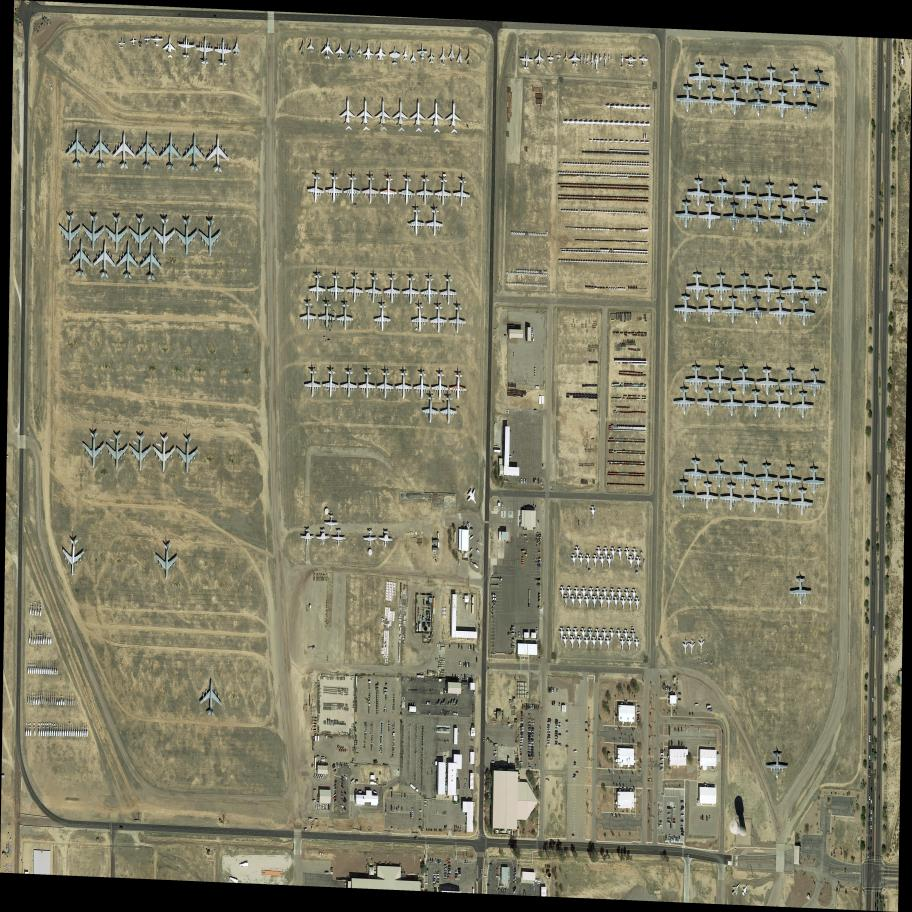large-vehicle: (528, 590, 530, 608), (491, 578, 502, 581), (867, 849, 870, 859), (521, 479, 523, 485), (678, 698, 682, 701), (535, 478, 537, 484), (538, 478, 540, 484), (615, 813, 617, 818), (533, 478, 535, 483), (525, 479, 527, 484), (540, 479, 542, 484), (509, 455, 512, 458), (506, 480, 509, 483), (504, 480, 507, 483), (524, 479, 525, 485)
plane: (128, 216, 153, 256), (61, 538, 86, 578), (152, 217, 177, 256), (82, 214, 106, 254), (58, 213, 82, 253), (199, 678, 223, 718), (175, 218, 198, 258), (116, 242, 140, 280), (105, 216, 129, 254), (140, 243, 163, 282), (89, 130, 112, 169), (106, 432, 129, 471), (153, 435, 176, 474), (66, 129, 89, 168), (159, 134, 183, 171), (130, 434, 152, 474), (177, 436, 199, 476), (199, 219, 222, 257), (183, 134, 206, 172), (155, 543, 178, 581), (83, 431, 105, 470), (70, 240, 92, 278), (94, 241, 116, 279), (207, 135, 229, 173), (113, 132, 135, 170), (793, 91, 819, 123), (711, 63, 737, 95), (137, 132, 158, 170), (742, 484, 767, 515), (758, 67, 783, 98), (735, 66, 760, 97), (721, 201, 745, 233), (769, 205, 793, 237), (698, 86, 723, 116), (766, 485, 790, 516), (745, 203, 769, 234), (733, 272, 757, 303), (683, 458, 707, 489), (743, 389, 767, 420), (806, 70, 830, 101), (757, 183, 782, 212), (778, 465, 802, 495), (710, 179, 734, 209), (746, 89, 770, 119), (780, 275, 804, 305), (684, 365, 708, 395), (673, 294, 697, 324), (697, 295, 721, 325), (792, 298, 816, 328), (719, 482, 742, 513), (723, 86, 746, 117), (452, 174, 472, 209), (397, 172, 417, 207), (792, 208, 816, 237), (675, 85, 699, 114), (770, 91, 794, 120), (765, 751, 788, 781), (672, 480, 695, 510), (674, 200, 697, 230), (698, 200, 721, 230), (781, 184, 804, 214), (757, 275, 780, 305), (672, 387, 695, 417), (708, 366, 731, 396), (768, 297, 791, 327), (321, 365, 341, 399), (686, 179, 710, 207), (802, 467, 825, 496), (731, 462, 754, 491), (755, 464, 778, 493), (734, 181, 757, 210), (756, 368, 779, 397), (696, 388, 719, 417), (720, 389, 743, 418), (767, 390, 790, 419), (791, 391, 814, 420), (732, 367, 755, 396), (805, 276, 828, 305), (721, 296, 744, 325), (688, 63, 711, 92), (789, 576, 811, 606), (696, 481, 718, 511), (745, 296, 767, 326), (306, 172, 326, 205), (365, 271, 384, 305), (449, 368, 468, 402), (708, 461, 731, 489), (685, 273, 708, 301), (803, 370, 826, 398), (779, 369, 802, 397), (791, 488, 813, 517), (422, 390, 440, 425), (461, 484, 485, 510), (710, 274, 732, 302), (783, 69, 805, 97), (336, 298, 354, 332), (411, 300, 429, 334), (449, 301, 467, 335), (346, 270, 364, 304), (440, 391, 458, 425), (308, 269, 326, 303), (434, 173, 452, 207), (395, 366, 412, 401), (806, 187, 828, 214), (358, 366, 376, 399), (340, 366, 358, 399), (299, 297, 317, 330), (430, 301, 448, 334), (426, 204, 444, 237), (325, 171, 343, 204), (343, 172, 361, 205), (374, 299, 391, 333), (421, 272, 438, 306), (377, 366, 394, 400), (413, 367, 430, 401), (408, 203, 425, 237), (392, 98, 409, 132), (417, 172, 434, 206), (380, 172, 397, 206), (304, 365, 322, 397), (440, 273, 457, 306), (327, 270, 344, 303), (339, 97, 356, 130), (431, 370, 449, 401), (318, 299, 335, 331), (428, 100, 444, 134), (410, 99, 426, 133), (445, 100, 461, 134), (362, 172, 379, 204), (375, 98, 391, 131), (357, 98, 373, 131), (215, 37, 233, 66), (196, 36, 214, 65), (402, 276, 420, 305), (384, 272, 400, 304), (362, 528, 379, 557), (178, 35, 196, 58), (727, 878, 746, 899), (324, 508, 339, 533), (300, 528, 315, 546), (379, 530, 393, 549), (332, 528, 346, 547), (316, 528, 330, 547), (321, 39, 333, 61), (164, 35, 175, 58), (389, 47, 400, 65), (739, 882, 751, 898), (363, 43, 373, 61), (376, 43, 385, 61), (418, 44, 427, 60), (336, 44, 345, 60), (233, 37, 240, 57), (409, 49, 417, 66), (456, 47, 463, 66), (465, 48, 472, 67), (347, 44, 355, 60), (152, 35, 163, 46), (682, 638, 689, 655), (698, 636, 705, 653), (439, 47, 446, 64), (448, 46, 455, 62), (617, 547, 624, 562), (624, 547, 631, 562), (428, 49, 435, 64), (580, 627, 587, 642), (620, 596, 627, 611), (307, 39, 314, 54), (633, 637, 640, 652), (689, 638, 695, 655), (574, 546, 581, 560), (606, 555, 613, 569), (566, 586, 573, 600), (609, 588, 616, 602), (635, 556, 642, 570), (584, 595, 591, 609), (601, 628, 608, 642), (623, 629, 630, 643), (591, 595, 598, 609), (299, 42, 306, 56), (626, 637, 633, 651), (619, 637, 626, 651), (596, 546, 602, 561), (590, 505, 596, 520), (624, 588, 630, 603), (631, 588, 637, 603), (609, 628, 615, 643), (613, 596, 619, 611), (610, 547, 616, 561), (603, 547, 609, 561), (599, 555, 605, 569), (617, 588, 623, 602), (559, 586, 565, 600), (574, 587, 580, 601), (581, 587, 587, 601), (588, 587, 594, 601), (595, 587, 601, 601), (592, 554, 598, 568), (628, 556, 634, 570), (632, 548, 638, 562), (571, 553, 577, 567), (578, 554, 584, 568), (585, 554, 591, 568), (570, 595, 576, 609), (577, 595, 583, 609), (403, 47, 409, 61), (616, 629, 622, 643), (559, 627, 565, 641), (566, 628, 572, 642), (588, 628, 594, 642), (630, 629, 636, 643), (634, 597, 640, 611), (606, 596, 612, 610), (562, 635, 568, 649), (576, 636, 582, 650), (584, 636, 590, 650), (598, 636, 604, 650), (591, 636, 597, 650), (602, 588, 608, 601), (563, 595, 569, 608), (573, 628, 579, 641), (569, 636, 575, 649), (627, 597, 633, 610), (605, 637, 611, 650), (563, 53, 570, 63), (595, 628, 600, 642), (599, 596, 604, 610), (119, 37, 125, 48), (357, 44, 362, 56), (138, 35, 142, 47), (130, 37, 136, 45), (145, 35, 150, 44)
small-vehicle: (331, 762, 337, 769), (342, 796, 348, 802), (339, 780, 345, 786), (868, 768, 871, 778), (476, 548, 481, 554), (342, 800, 348, 805), (344, 774, 349, 780), (340, 775, 346, 780), (340, 784, 345, 790), (632, 726, 637, 732), (617, 726, 622, 732), (554, 718, 560, 723), (469, 535, 475, 540), (333, 798, 338, 803), (469, 548, 474, 553), (512, 886, 517, 891), (340, 794, 345, 799), (340, 803, 345, 808), (389, 787, 394, 792), (333, 792, 338, 797), (333, 786, 338, 791), (350, 779, 355, 784), (340, 778, 345, 783), (441, 399, 446, 404), (513, 870, 518, 875), (512, 877, 517, 882), (512, 880, 517, 885), (343, 790, 347, 796), (336, 763, 340, 769), (347, 763, 351, 769), (345, 763, 349, 769), (620, 769, 624, 775), (611, 769, 615, 775), (612, 812, 616, 818), (680, 741, 683, 749), (504, 887, 508, 893), (870, 786, 873, 793), (480, 868, 483, 875), (501, 502, 504, 509), (492, 597, 497, 601), (333, 796, 338, 800), (313, 773, 317, 778), (315, 774, 319, 779), (512, 890, 517, 894), (340, 798, 345, 802), (343, 806, 347, 811), (340, 790, 344, 795), (343, 763, 347, 768), (338, 763, 342, 768), (333, 768, 337, 773), (424, 881, 429, 885), (631, 726, 635, 731), (619, 738, 623, 743), (554, 721, 559, 725), (513, 866, 517, 871), (513, 873, 517, 878), (319, 774, 322, 780), (340, 762, 343, 768), (677, 727, 680, 733), (678, 741, 680, 750), (671, 740, 673, 749), (687, 854, 690, 860), (707, 709, 713, 712), (503, 887, 506, 893), (869, 735, 871, 743), (317, 775, 321, 779), (312, 799, 316, 803), (333, 766, 337, 770), (447, 858, 451, 862), (672, 817, 676, 821), (520, 717, 524, 721), (584, 728, 588, 732), (565, 744, 569, 748), (546, 778, 550, 782), (510, 632, 515, 635), (321, 775, 324, 780), (519, 726, 524, 729), (314, 818, 319, 821), (618, 812, 621, 817), (632, 738, 635, 743), (631, 770, 634, 775), (608, 769, 611, 774), (620, 726, 623, 731), (614, 726, 617, 731), (680, 806, 685, 809), (546, 737, 551, 740), (546, 740, 551, 743), (530, 752, 535, 755), (501, 887, 504, 892), (871, 756, 873, 763), (871, 767, 873, 774), (870, 830, 872, 837), (391, 805, 393, 812), (452, 674, 454, 681), (709, 815, 711, 822), (871, 742, 873, 749), (872, 697, 874, 703), (873, 625, 875, 631), (23, 204, 25, 210), (869, 754, 871, 760), (868, 821, 870, 827), (870, 852, 872, 858), (870, 846, 872, 852), (870, 837, 872, 843), (869, 805, 871, 811), (536, 627, 538, 633), (518, 632, 520, 638), (510, 629, 514, 632), (492, 595, 496, 598), (328, 804, 330, 810), (313, 789, 317, 792), (455, 873, 459, 876), (444, 867, 448, 870), (454, 871, 458, 874), (457, 868, 461, 871), (458, 873, 462, 876), (467, 522, 469, 528), (463, 522, 465, 528), (458, 560, 460, 566), (443, 864, 447, 867), (531, 730, 535, 733), (531, 727, 535, 730), (520, 734, 524, 737), (520, 723, 524, 726), (531, 722, 535, 725), (528, 727, 531, 731), (527, 737, 531, 740), (531, 733, 535, 736), (486, 883, 490, 886), (322, 804, 324, 810), (319, 804, 321, 810), (317, 805, 319, 811), (308, 818, 312, 821), (489, 863, 493, 866), (520, 737, 524, 740), (448, 862, 452, 865), (404, 792, 406, 798), (385, 809, 387, 815), (391, 792, 393, 798), (398, 806, 400, 812), (410, 812, 412, 818), (419, 809, 423, 812), (419, 818, 422, 822), (430, 858, 432, 864), (440, 859, 442, 865), (432, 878, 436, 881), (433, 887, 437, 890), (436, 881, 440, 884), (418, 826, 422, 829), (476, 657, 478, 663), (456, 406, 460, 409), (449, 644, 451, 650), (458, 644, 460, 650), (461, 644, 463, 650), (468, 645, 470, 651), (473, 645, 475, 651), (465, 661, 467, 667), (681, 727, 683, 733), (686, 728, 688, 734), (660, 750, 664, 753), (721, 730, 724, 734), (678, 692, 682, 695), (669, 686, 671, 692), (667, 686, 669, 692), (665, 686, 667, 692), (624, 700, 626, 706), (669, 835, 671, 841), (674, 836, 676, 842), (695, 703, 699, 706), (702, 814, 704, 820), (706, 815, 708, 821), (681, 832, 684, 836), (660, 768, 664, 771), (659, 821, 663, 824), (667, 806, 671, 809), (680, 825, 684, 828), (680, 827, 684, 830), (547, 721, 551, 724), (547, 724, 551, 727), (547, 734, 551, 737), (551, 687, 553, 693), (547, 743, 551, 746), (554, 740, 558, 743), (555, 735, 559, 738), (520, 721, 524, 724), (527, 751, 531, 754), (527, 754, 531, 757), (528, 766, 532, 769), (527, 704, 529, 710), (537, 705, 539, 711), (556, 724, 559, 728), (573, 750, 577, 753), (575, 771, 579, 774), (571, 834, 575, 837), (468, 522, 470, 528), (565, 731, 569, 734), (558, 744, 562, 747), (496, 875, 500, 878), (565, 719, 569, 722), (880, 674, 882, 679), (871, 636, 873, 641), (870, 825, 872, 830), (878, 795, 880, 800), (877, 775, 879, 780), (521, 633, 523, 638), (324, 804, 326, 809), (460, 825, 462, 830), (454, 825, 456, 830), (447, 871, 452, 873), (315, 805, 317, 810), (877, 899, 879, 904), (401, 793, 403, 798), (396, 807, 398, 812), (401, 806, 403, 811), (412, 807, 414, 812), (412, 813, 414, 818), (435, 859, 437, 864), (438, 859, 440, 864), (468, 662, 470, 667), (464, 675, 466, 680), (463, 662, 465, 667), (459, 661, 461, 666), (670, 686, 672, 691), (621, 702, 623, 707), (665, 835, 667, 840), (670, 836, 672, 841), (672, 836, 674, 841), (677, 837, 679, 842), (698, 728, 700, 733), (700, 815, 702, 820), (556, 688, 558, 693), (553, 687, 555, 692), (548, 687, 550, 692), (534, 705, 536, 710), (872, 546, 874, 551), (884, 67, 886, 72), (886, 84, 888, 89), (519, 517, 521, 522), (477, 541, 480, 544), (511, 626, 514, 629), (448, 867, 451, 870), (444, 870, 447, 873), (448, 873, 451, 876), (458, 870, 461, 873), (455, 876, 458, 879), (528, 722, 531, 725), (531, 735, 534, 738), (528, 724, 531, 727), (531, 741, 534, 744), (520, 745, 523, 748), (304, 828, 307, 831), (520, 740, 523, 743), (433, 873, 436, 876), (425, 875, 428, 878), (436, 873, 439, 876), (528, 740, 531, 743), (528, 743, 531, 746), (531, 744, 534, 747), (637, 719, 640, 722), (528, 746, 531, 749), (659, 824, 662, 827), (661, 755, 664, 758), (673, 807, 676, 810), (660, 758, 663, 761), (681, 830, 684, 833), (673, 820, 676, 823), (681, 801, 684, 804), (681, 814, 684, 817), (548, 718, 551, 721), (547, 729, 550, 732), (548, 731, 551, 734), (555, 732, 558, 735), (555, 727, 558, 730), (531, 749, 534, 752), (520, 761, 523, 764), (573, 760, 576, 763), (572, 776, 575, 779), (470, 527, 473, 530), (585, 721, 588, 724), (558, 725, 561, 728), (520, 729, 524, 731), (527, 735, 531, 737), (519, 743, 523, 745), (494, 744, 498, 746), (425, 869, 429, 871), (458, 674, 459, 682), (611, 812, 613, 816), (674, 728, 676, 732), (637, 706, 641, 708), (660, 753, 664, 755), (668, 812, 670, 816), (680, 809, 684, 811), (555, 730, 559, 732), (530, 755, 534, 757), (524, 705, 526, 709), (529, 705, 531, 709), (532, 705, 534, 709), (558, 723, 562, 725), (871, 797, 872, 804), (471, 674, 472, 681), (875, 893, 876, 899), (869, 814, 870, 820), (873, 851, 874, 857), (871, 809, 872, 815), (873, 806, 874, 812), (869, 795, 870, 801), (496, 868, 499, 870), (326, 804, 327, 810), (444, 873, 447, 875), (444, 876, 447, 878), (447, 876, 450, 878), (519, 754, 522, 756), (520, 732, 523, 734), (528, 730, 531, 732), (528, 733, 531, 735), (531, 738, 534, 740), (491, 763, 494, 765), (493, 754, 496, 756), (494, 751, 497, 753), (448, 865, 451, 867), (394, 806, 395, 812), (432, 858, 433, 864), (433, 876, 436, 878), (433, 882, 436, 884), (433, 884, 436, 886), (437, 879, 440, 881), (437, 876, 440, 878), (467, 674, 468, 680), (455, 674, 456, 680), (461, 674, 462, 680), (637, 712, 640, 714), (637, 715, 640, 717), (637, 717, 640, 719), (679, 836, 680, 842), (670, 822, 671, 828), (875, 902, 876, 908), (660, 764, 663, 766), (667, 818, 670, 820), (667, 821, 670, 823), (681, 820, 684, 822), (547, 727, 550, 729), (555, 744, 558, 746), (555, 738, 558, 740), (550, 687, 551, 693), (528, 749, 531, 751), (574, 763, 576, 766), (573, 774, 576, 776), (559, 733, 562, 735), (552, 700, 553, 706), (554, 700, 555, 706), (869, 832, 870, 837), (871, 816, 872, 821), (877, 892, 878, 897), (515, 632, 516, 637), (483, 737, 484, 742), (449, 600, 450, 605), (437, 859, 438, 864), (470, 645, 471, 650), (467, 662, 468, 667), (709, 741, 710, 746), (676, 836, 677, 841), (536, 705, 537, 710), (872, 582, 873, 587), (559, 702, 560, 707), (458, 826, 459, 830), (531, 705, 532, 709)
